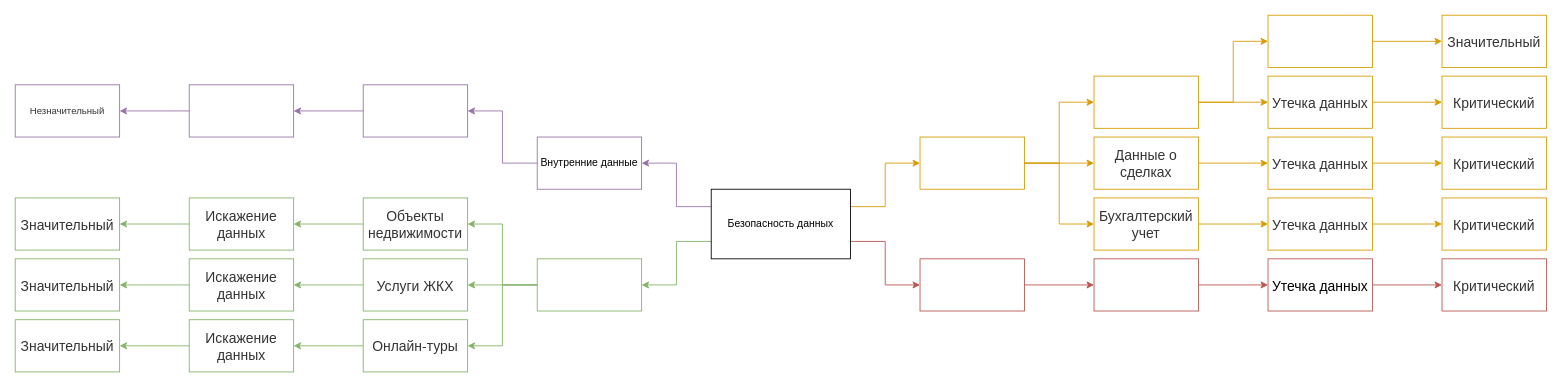
Some shapes in this 1562 by 387 pixel diagram are drawn without their labels. Each missing label, with the centre of its shape:
Контактные данные клиента: (1145,101)
Конфидециальные данные: (971,162)
Некачественные данные: (241,110)
Паспортные данные: (1145,284)
Потеря данных: (1319,40)
Публичные данные: (589,284)
Результаты осмотра: (415,110)
Секретные данные: (971,284)
